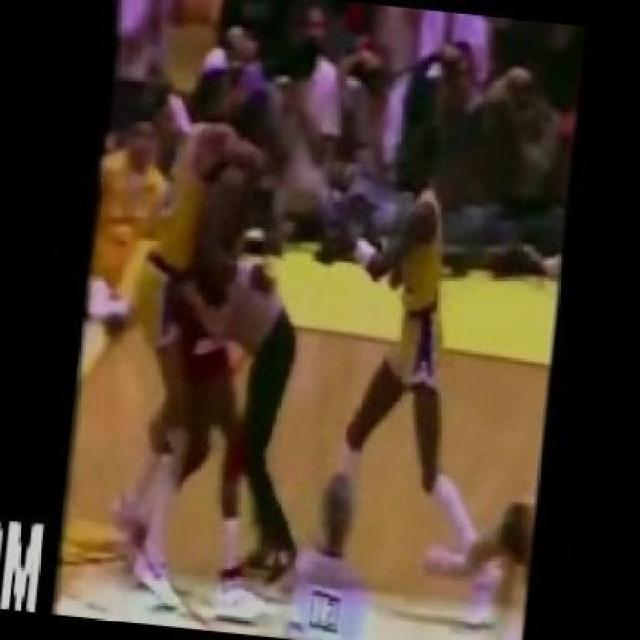fight: (114, 68, 300, 616), (324, 130, 482, 598)
non-fight: (83, 115, 176, 403)
